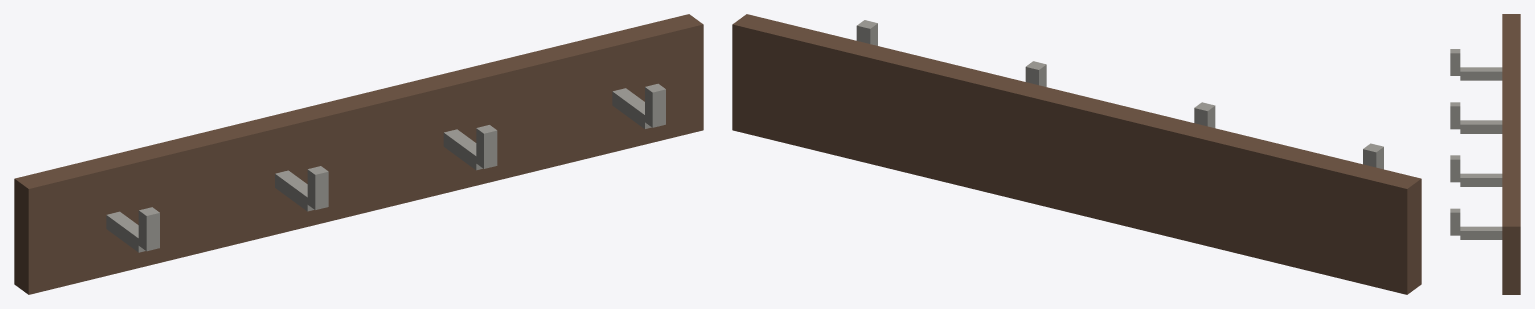
Rendered from coat-hook-rail.glb.
The picture shows the model from 3 angles, left to right: view 1: azimuth 30°, elevation 25°; view 2: azimuth 150°, elevation 25°; view 3: azimuth 270°, elevation 25°; orthographic projection. The views are drawn at different scales.
Visible parts, largest first — view 1: wood, brushed; view 2: wood, brushed; view 3: wood, brushed.
Boxes of the visible parts, bbox=[...] form: wood: bbox=[14, 14, 703, 294]; brushed: bbox=[106, 83, 665, 252]; wood: bbox=[732, 14, 1421, 294]; brushed: bbox=[856, 20, 1383, 169]; wood: bbox=[1502, 14, 1520, 294]; brushed: bbox=[1450, 49, 1502, 239].
Size of the model in its own units: 0.6 by 0.09 by 0.084.
